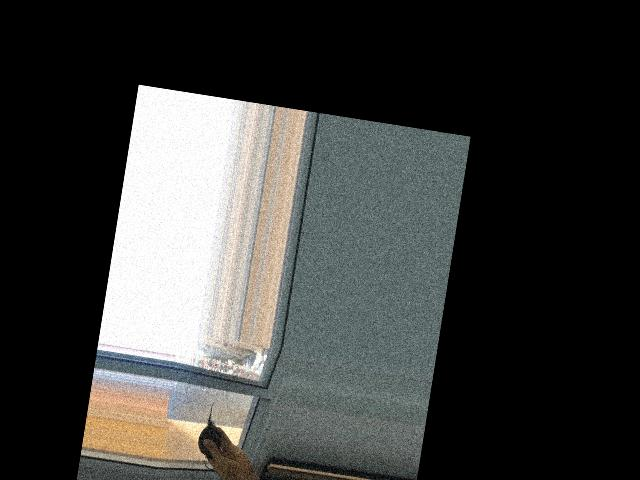beet: (194, 399, 234, 471)
